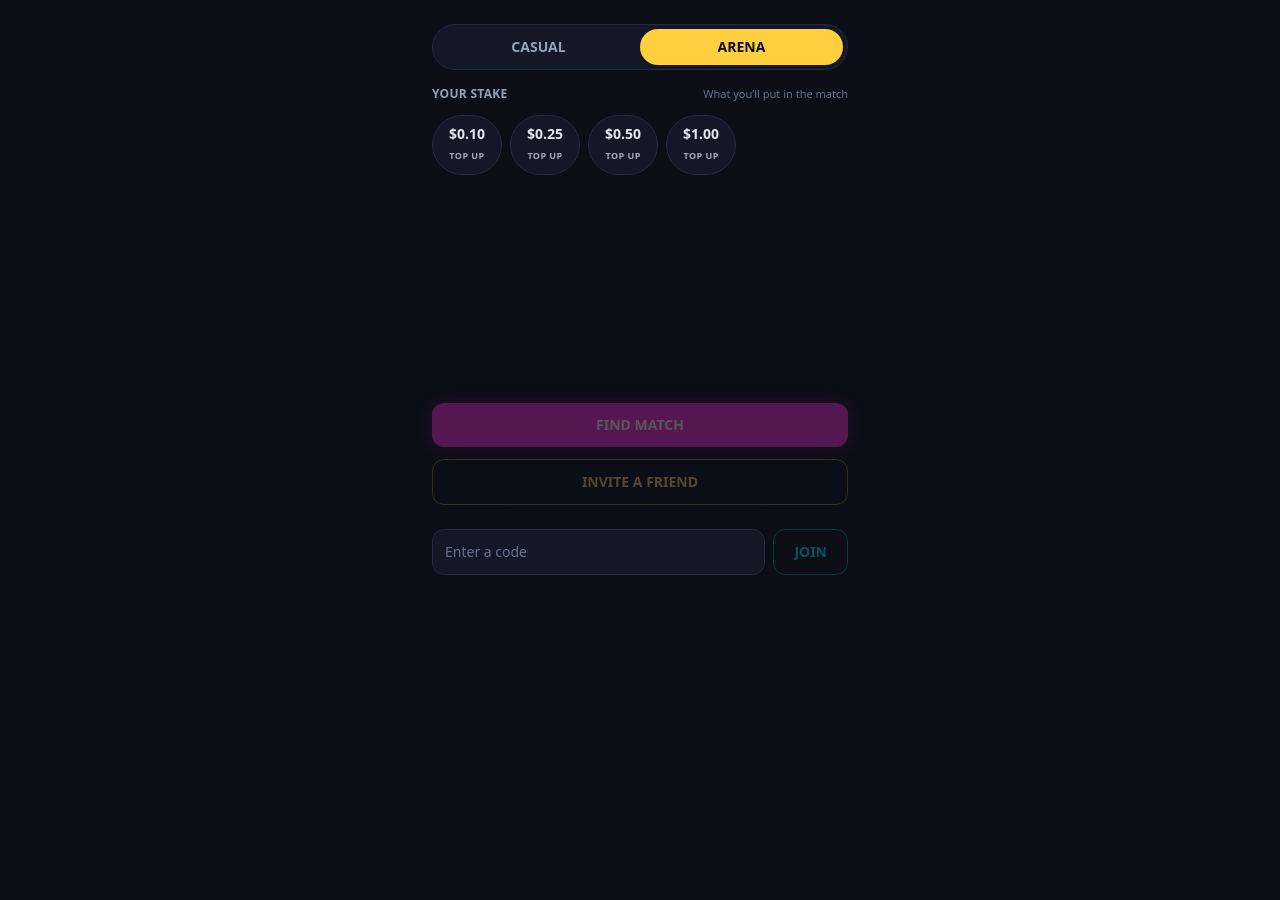
Test: MatchmakingScreen — Arena stake balance reuse › hides the 'Insufficient balance for stake' banner once the stake modal is open
What coordinates should you click on to do the following:
click the text "$0.10"
I would click on:
 (467, 134)
Its box is [449,124,485,144].
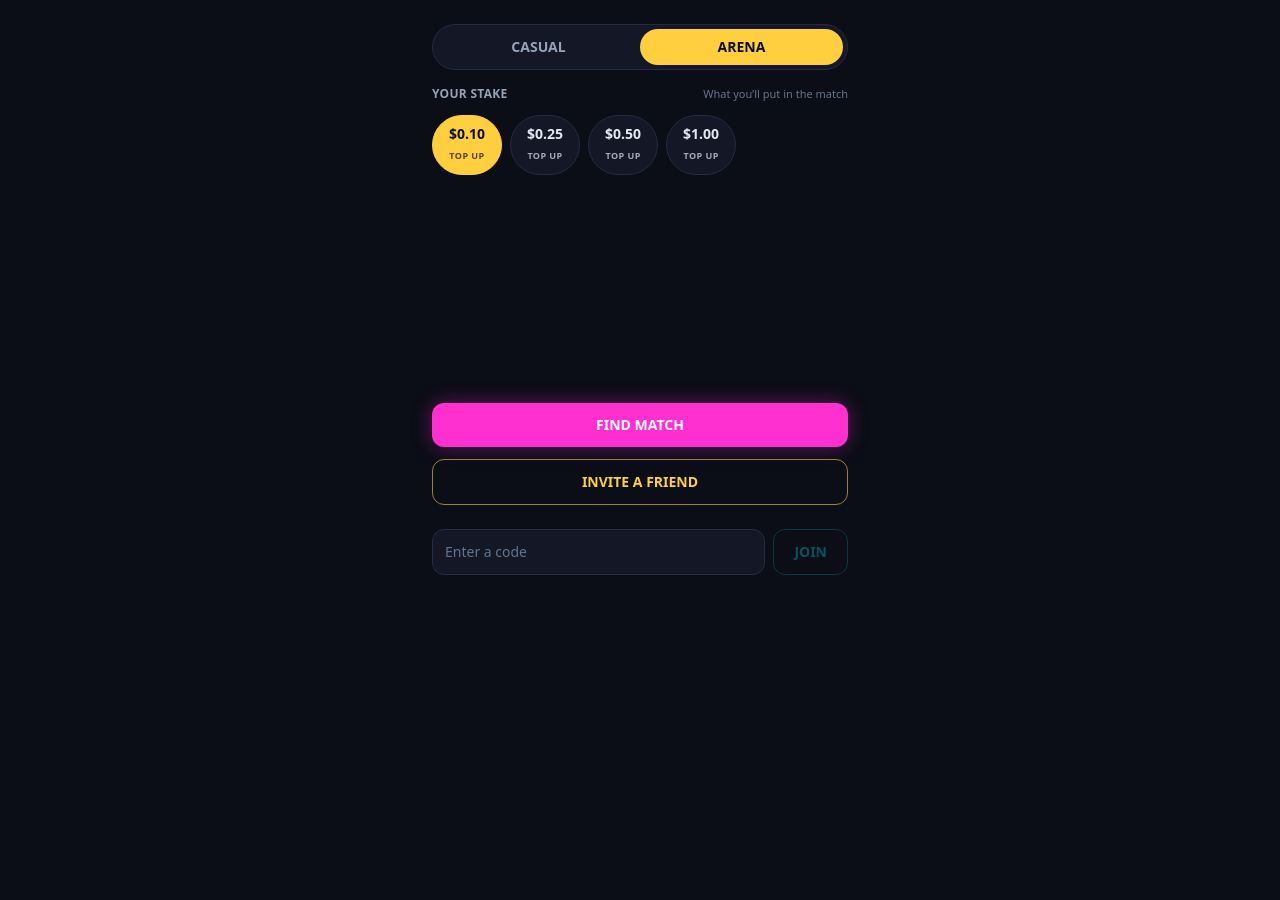
What coordinates should you click on to do the following:
click the button "Find match"
I would click on:
 (640, 425)
Its box is [432,403,848,447].
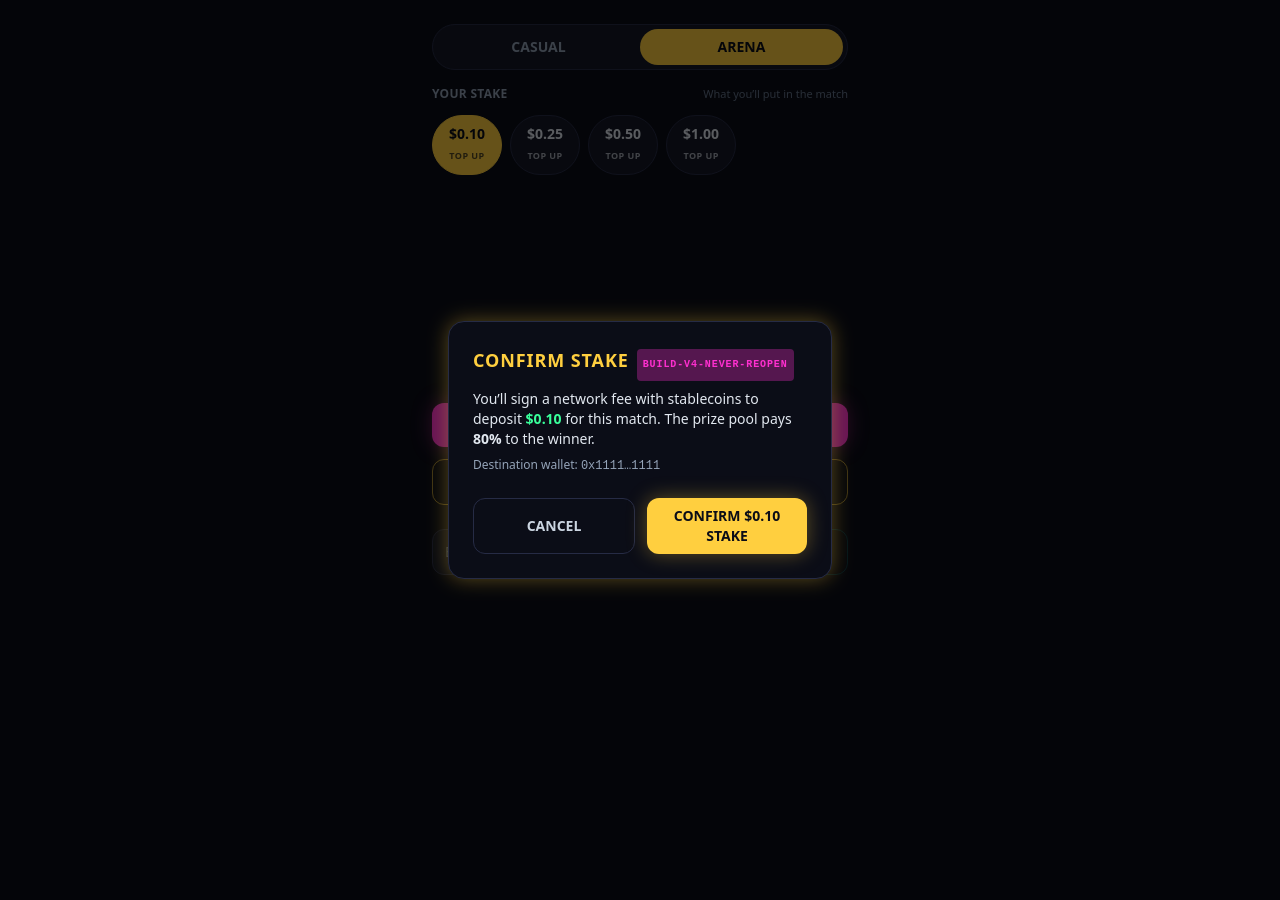
Check: the dialog with test id "stake-confirm-dialog" is shown
